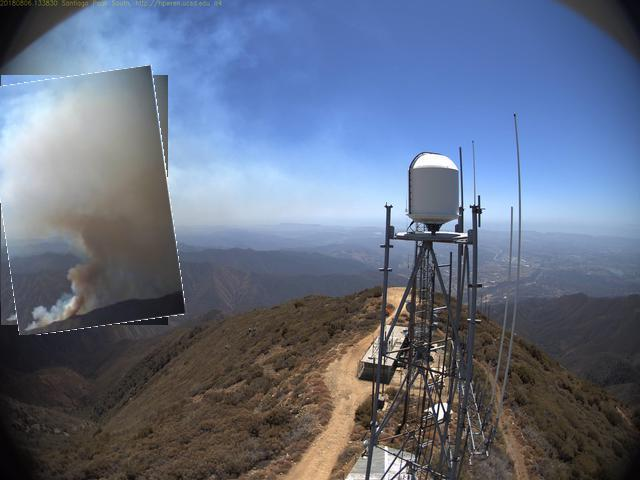smoke: (1, 71, 179, 333)
